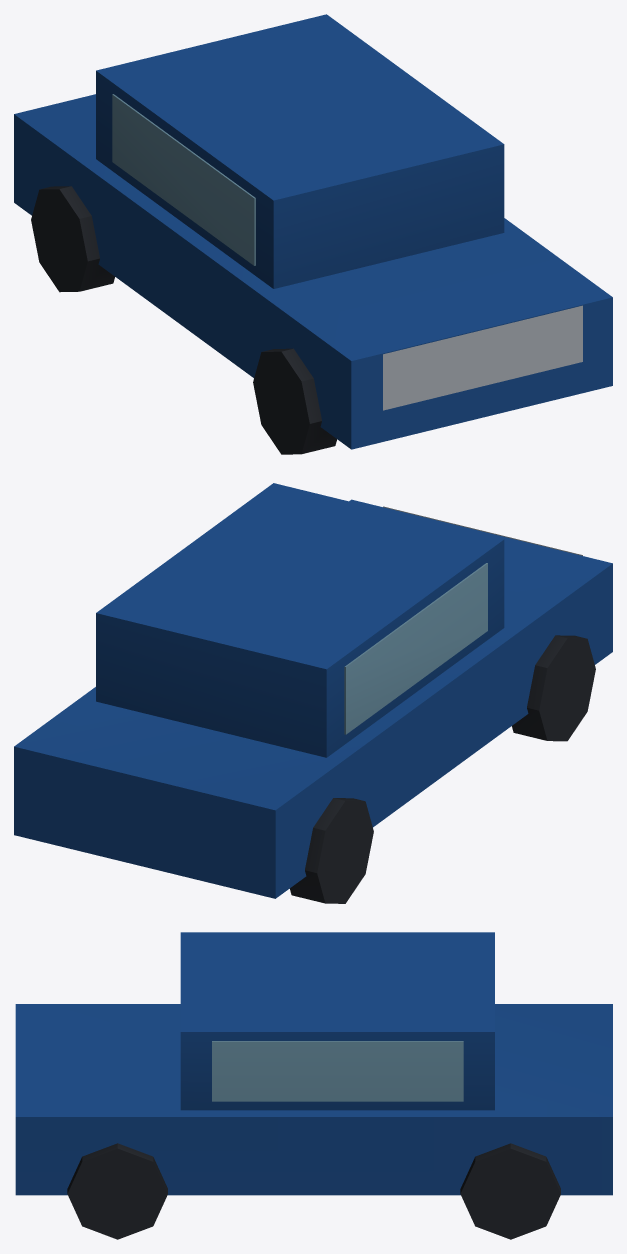
File: xe-hoi-xanh.glb
The picture shows the model from 3 angles, top to bottom: view 1: azimuth 30°, elevation 25°; view 2: azimuth 150°, elevation 25°; view 3: azimuth 270°, elevation 25°; orthographic projection. The views are drawn at different scales.
Visible parts, largest first — view 1: xe-hoi-xanh; view 2: xe-hoi-xanh; view 3: xe-hoi-xanh.
Boxes of the visible parts, x1,y1,x2,y2 form: xe-hoi-xanh: (14,14,612,454); xe-hoi-xanh: (14,483,612,903); xe-hoi-xanh: (15,932,612,1239).
Size of the model in its own units: 1.86 by 1.38 by 3.81.
